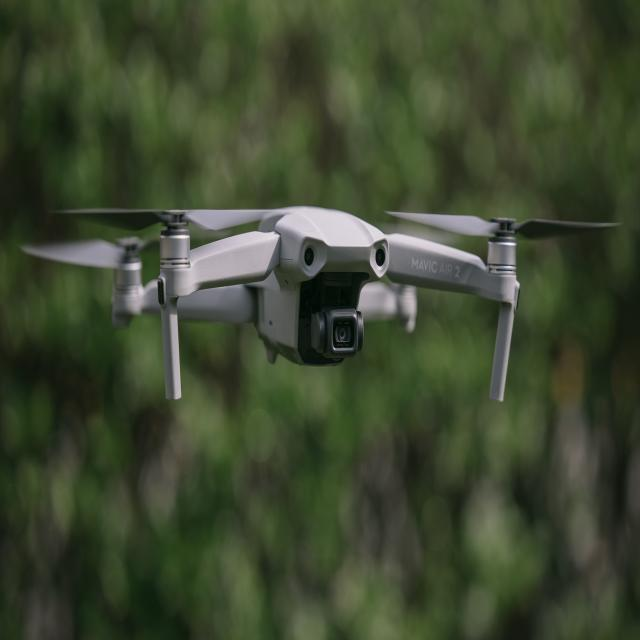drone: (7, 162, 635, 439)
